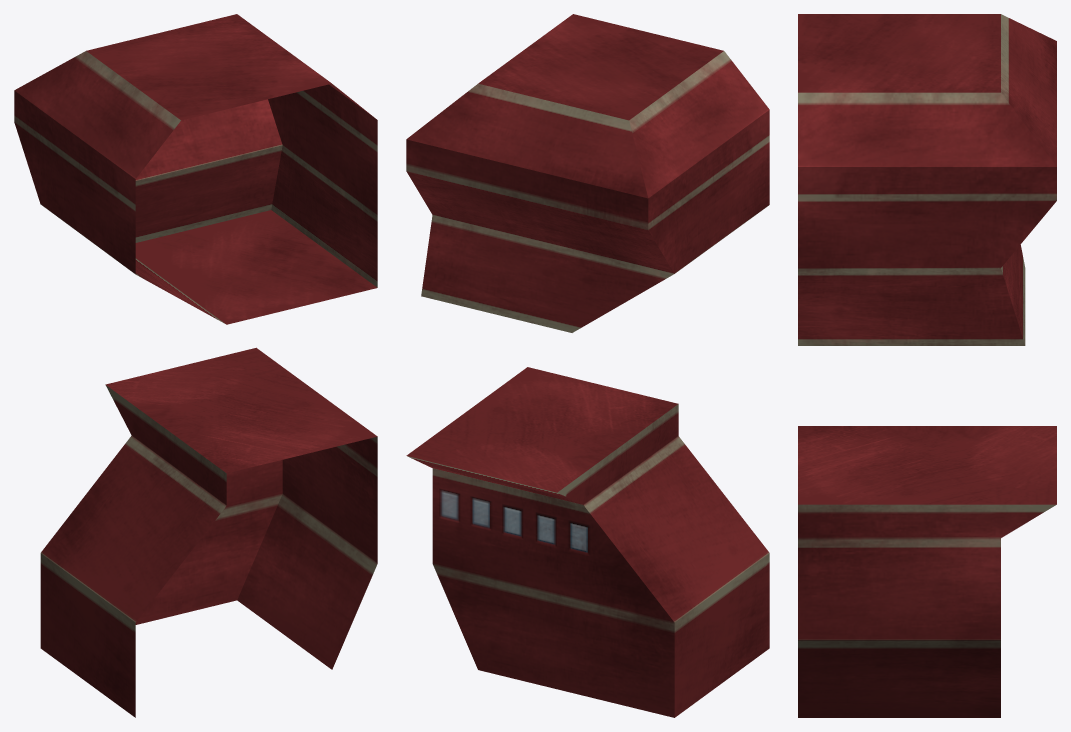
The picture shows the model from 3 angles, left to right: view 1: azimuth 30°, elevation 25°; view 2: azimuth 150°, elevation 25°; view 3: azimuth 270°, elevation 25°; orthographic projection. The views are drawn at different scales.
Parts seen in each view (by area): view 1: B_1C; view 2: B_1C; view 3: B_1C.
Part boxes in pixels (left/top/right/bottom): B_1C: left=14, top=14, right=377, bottom=717; B_1C: left=406, top=14, right=769, bottom=717; B_1C: left=798, top=14, right=1056, bottom=717.
Size of the model in its own units: 56.22 by 130 by 48.83.
